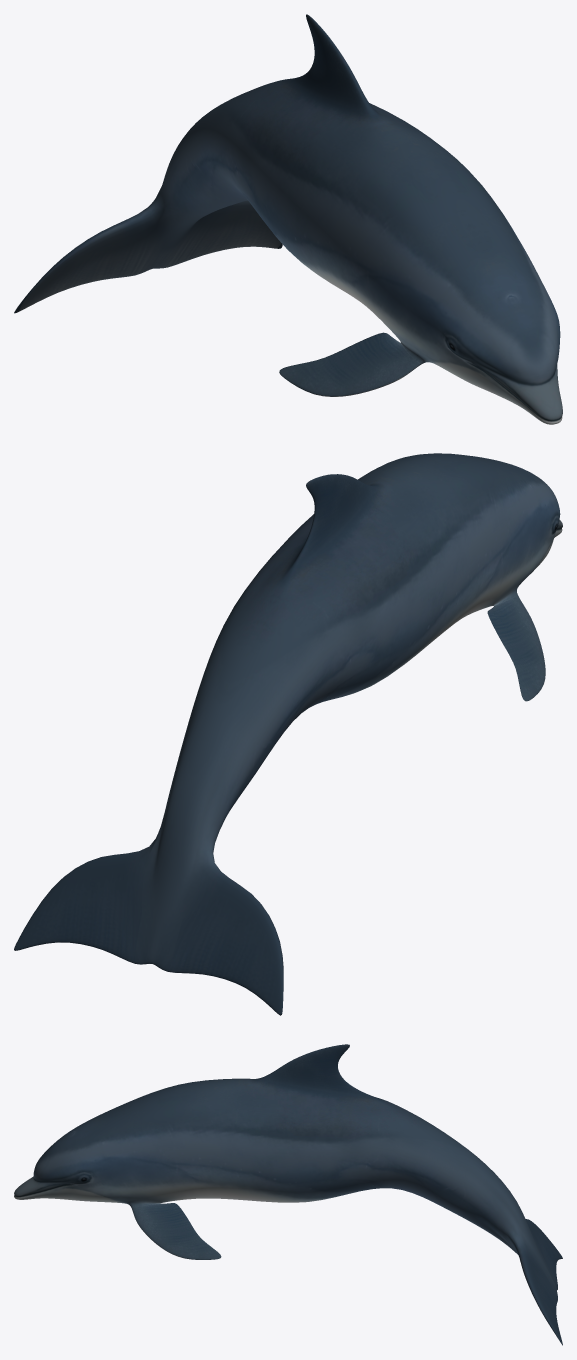
Rendered from dolphin.obj.
The picture shows the model from 3 angles, top to bottom: view 1: azimuth 30°, elevation 25°; view 2: azimuth 150°, elevation 25°; view 3: azimuth 270°, elevation 25°; orthographic projection. The views are drawn at different scales.
Parts seen in each view (by area): view 1: dolphin; view 2: dolphin; view 3: dolphin.
Boxes of the visible parts, x1,y1,x2,y2 form: dolphin: (14, 14, 562, 424); dolphin: (14, 453, 562, 1015); dolphin: (14, 1044, 562, 1345).
Size of the model in its own units: 2 by 2.73 by 5.27.
Materials: 1 (1 with a texture image).
